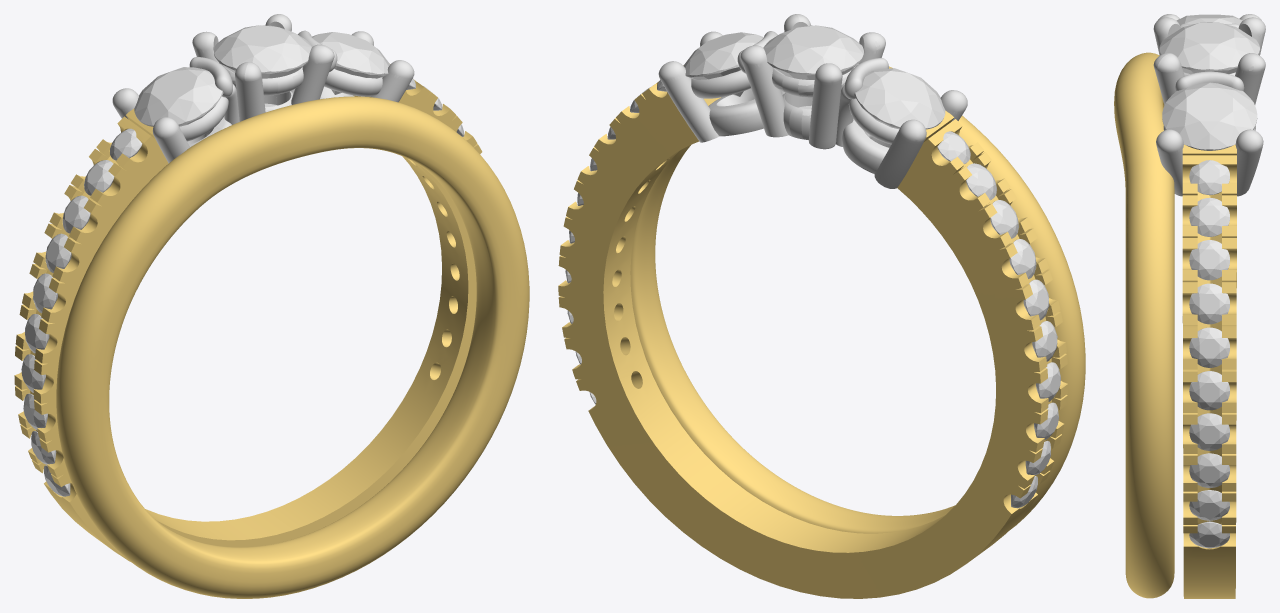
The model's file is LuPlainBoth.glb.
3 views of the same model, side by side, from view 1: azimuth 30°, elevation 25°; view 2: azimuth 150°, elevation 25°; view 3: azimuth 270°, elevation 25° (orthographic). The views are drawn at different scales.
Parts seen in each view (by area): view 1: v2 Lu YG wb for 3d model, v2 Lu YG wb both stones for 3d model.018, v2 Lu dia both wb for 3d model.013, v2 Lu dia both wb for 3d model.014, v2 Lu dia both wb for 3d model.025, v2 Lu YG wb both stones for 3d model.013, v2 Lu YG wb both stones for 3d model.014, v2 Lu YG wb both stones for 3d model.011, v2 Lu YG wb both stones for 3d model.029, v2 Lu YG wb both stones for 3d model.032, v2 Lu YG wb both stones for 3d model.021, v2 Lu YG wb both stones for 3d model.017 (+6 smaller); view 2: v2 Lu YG wb both stones for 3d model.018, v2 Lu YG wb for 3d model, v2 Lu dia both wb for 3d model.013, v2 Lu dia both wb for 3d model.014, v2 Lu YG wb both stones for 3d model.012, v2 Lu YG wb both stones for 3d model.015, v2 Lu dia both wb for 3d model.025, v2 Lu YG wb both stones for 3d model.031, v2 Lu YG wb both stones for 3d model.030, v2 Lu YG wb both stones for 3d model.019, v2 Lu YG wb both stones for 3d model.020, v2 Lu YG wb both stones for 3d model.011 (+9 smaller); view 3: v2 Lu YG wb for 3d model, v2 Lu YG wb both stones for 3d model.018, v2 Lu dia both wb for 3d model.025, v2 Lu dia both wb for 3d model.014, v2 Lu YG wb both stones for 3d model.031, v2 Lu dia both wb for 3d model.018, v2 Lu dia both wb for 3d model.017, v2 Lu dia both wb for 3d model.019, v2 Lu dia both wb for 3d model.020, v2 Lu YG wb both stones for 3d model.032, v2 Lu dia both wb for 3d model.016, v2 Lu dia both wb for 3d model.021 (+10 smaller).
Boxes of the visible parts, x1=… form: v2 Lu YG wb for 3d model: x1=56, y1=96, x2=529, y2=598; v2 Lu YG wb both stones for 3d model.018: x1=14, y1=80, x2=482, y2=561; v2 Lu dia both wb for 3d model.013: x1=134, y1=67, x2=223, y2=126; v2 Lu dia both wb for 3d model.014: x1=214, y1=25, x2=311, y2=78; v2 Lu dia both wb for 3d model.025: x1=312, y1=32, x2=389, y2=94; v2 Lu YG wb both stones for 3d model.013: x1=291, y1=44, x2=334, y2=104; v2 Lu YG wb both stones for 3d model.014: x1=235, y1=62, x2=265, y2=121; v2 Lu YG wb both stones for 3d model.011: x1=324, y1=69, x2=382, y2=96; v2 Lu YG wb both stones for 3d model.029: x1=152, y1=117, x2=190, y2=163; v2 Lu YG wb both stones for 3d model.032: x1=370, y1=60, x2=414, y2=102; v2 Lu YG wb both stones for 3d model.021: x1=179, y1=96, x2=228, y2=141; v2 Lu YG wb both stones for 3d model.017: x1=219, y1=62, x2=303, y2=95; v2 Lu YG wb both stones for 3d model.018: x1=558, y1=65, x2=1068, y2=598; v2 Lu YG wb for 3d model: x1=630, y1=66, x2=1085, y2=533; v2 Lu dia both wb for 3d model.013: x1=854, y1=68, x2=945, y2=129; v2 Lu dia both wb for 3d model.014: x1=763, y1=25, x2=863, y2=79; v2 Lu YG wb both stones for 3d model.012: x1=740, y1=45, x2=788, y2=137; v2 Lu YG wb both stones for 3d model.015: x1=808, y1=63, x2=842, y2=149; v2 Lu dia both wb for 3d model.025: x1=683, y1=32, x2=763, y2=96; v2 Lu YG wb both stones for 3d model.031: x1=658, y1=61, x2=719, y2=142; v2 Lu YG wb both stones for 3d model.030: x1=874, y1=119, x2=926, y2=188; v2 Lu YG wb both stones for 3d model.019: x1=708, y1=88, x2=763, y2=136; v2 Lu YG wb both stones for 3d model.020: x1=842, y1=119, x2=890, y2=173; v2 Lu YG wb both stones for 3d model.011: x1=691, y1=70, x2=750, y2=98; v2 Lu YG wb for 3d model: x1=1114, y1=52, x2=1174, y2=598; v2 Lu YG wb both stones for 3d model.018: x1=1182, y1=144, x2=1236, y2=598; v2 Lu dia both wb for 3d model.025: x1=1162, y1=82, x2=1257, y2=150; v2 Lu dia both wb for 3d model.014: x1=1159, y1=22, x2=1259, y2=74; v2 Lu YG wb both stones for 3d model.031: x1=1235, y1=129, x2=1263, y2=196; v2 Lu dia both wb for 3d model.018: x1=1189, y1=283, x2=1229, y2=324; v2 Lu dia both wb for 3d model.017: x1=1189, y1=240, x2=1229, y2=280; v2 Lu dia both wb for 3d model.019: x1=1189, y1=327, x2=1229, y2=367; v2 Lu dia both wb for 3d model.020: x1=1189, y1=371, x2=1229, y2=410; v2 Lu YG wb both stones for 3d model.032: x1=1156, y1=129, x2=1183, y2=196; v2 Lu dia both wb for 3d model.016: x1=1189, y1=197, x2=1229, y2=236; v2 Lu dia both wb for 3d model.021: x1=1189, y1=413, x2=1229, y2=450.
Size of the model in its own units: 20.37 by 21.93 by 5.59.
